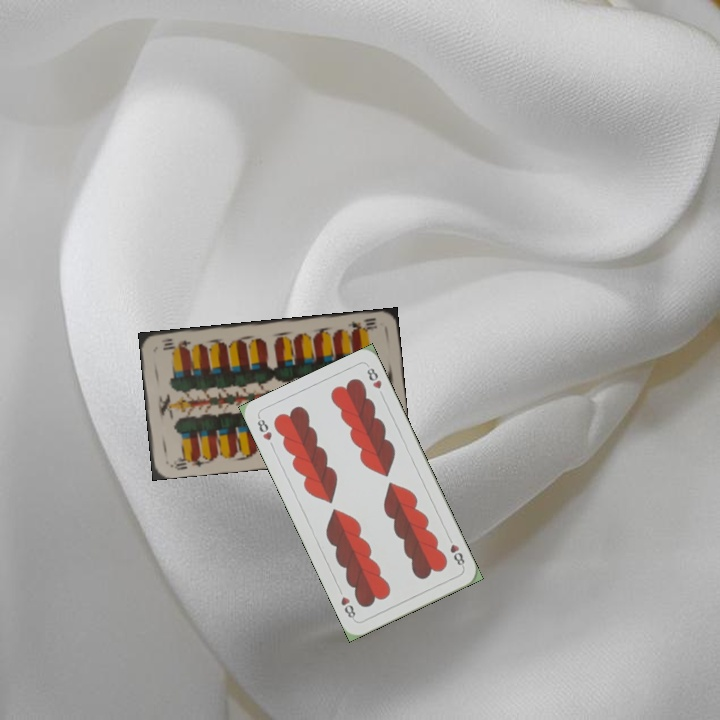E10: (166, 451, 207, 473), (344, 314, 379, 335)
H8: (253, 413, 277, 452), (444, 532, 467, 570)
